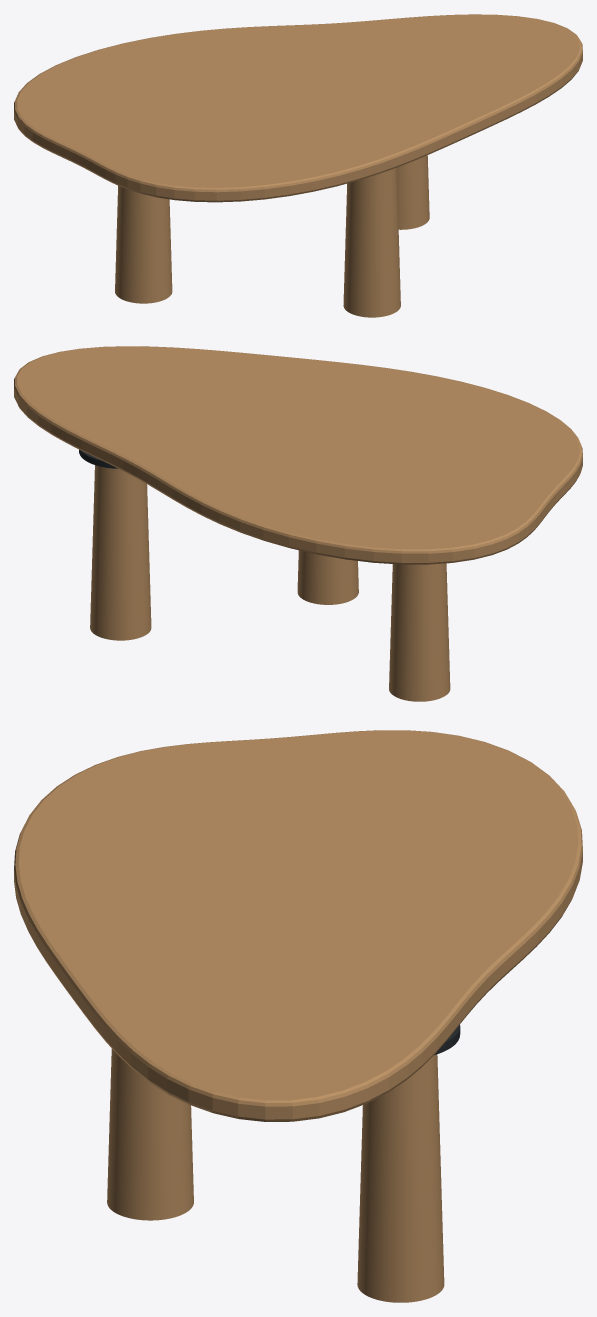
File: coffeeTable-5.glb
3 renders of one model, top to bottom at view 1: azimuth 30°, elevation 25°; view 2: azimuth 150°, elevation 25°; view 3: azimuth 270°, elevation 25°, orthographic. The views are drawn at different scales.
Visible parts, largest first — view 1: coffeeTable:5:archviz; view 2: coffeeTable:5:archviz; view 3: coffeeTable:5:archviz.
Boxes of the visible parts, x1=… form: coffeeTable:5:archviz: x1=14, y1=14, x2=582, y2=317; coffeeTable:5:archviz: x1=14, y1=346, x2=582, y2=701; coffeeTable:5:archviz: x1=14, y1=730, x2=582, y2=1302.
Size of the model in its own units: 1.12 by 0.39 by 0.72.
